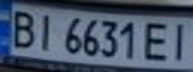1: (118, 18, 142, 60)
3: (100, 18, 121, 60)
6: (78, 16, 103, 56), (60, 15, 84, 55)
B: (3, 7, 39, 50)
E: (139, 19, 175, 62)
I: (30, 11, 60, 52), (166, 19, 193, 62)
